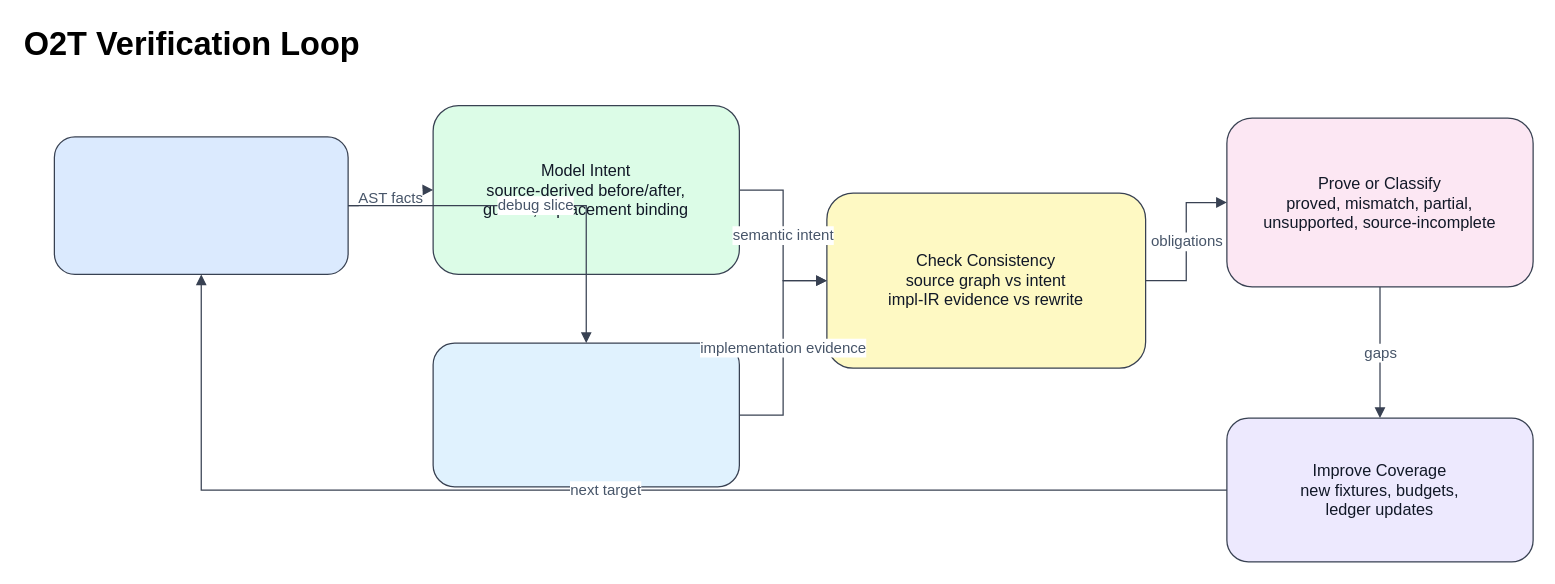
Some shapes in this 1555 by 584 pixel diagram are drawn without their labels. Here are the shapes that lost their labels. From the top down, the centre of each, then its label:
the point at 200,205: Detect Optimization Site marker, matcher, rewrite region
the point at 585,414: Mine Pass Implementation calls, operands, SSA/call edges
